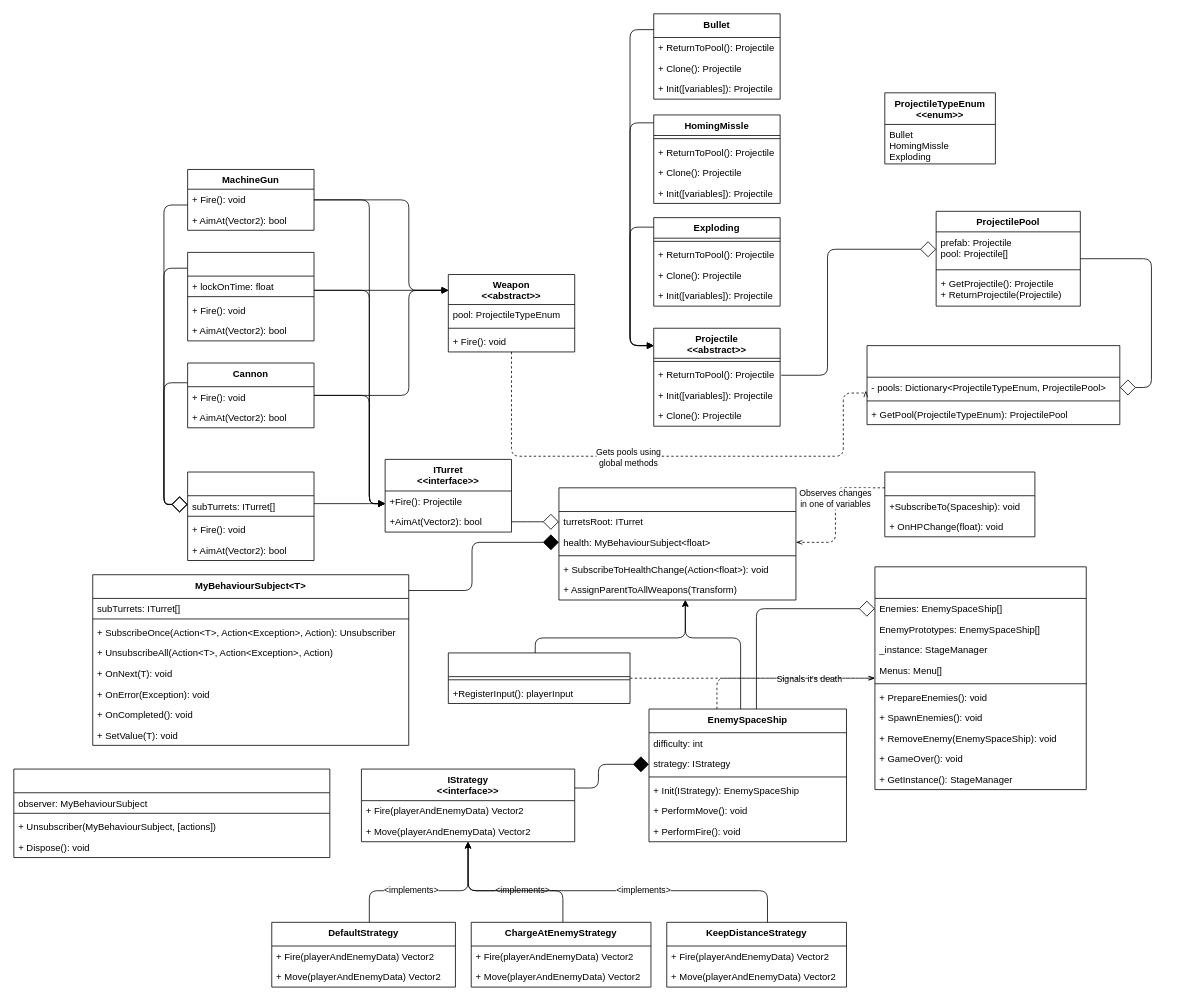
Some shapes in this 1181 by 1003 pixel diagram are drawn without their labels. Each missing label, with the box of its shape:
MissileLauncher: (187, 252, 314, 341)
PlayerSpaceShip: (448, 652, 630, 703)
ProjectilePools (multiton manager): (866, 345, 1120, 425)
SpaceShip: (558, 487, 796, 600)
StageManager (singleton): (874, 566, 1086, 790)
StatsDisplay: (884, 471, 1035, 537)
Unsubscriber implements IDisposable: (13, 768, 330, 858)
Weapon Group: (187, 471, 314, 561)
